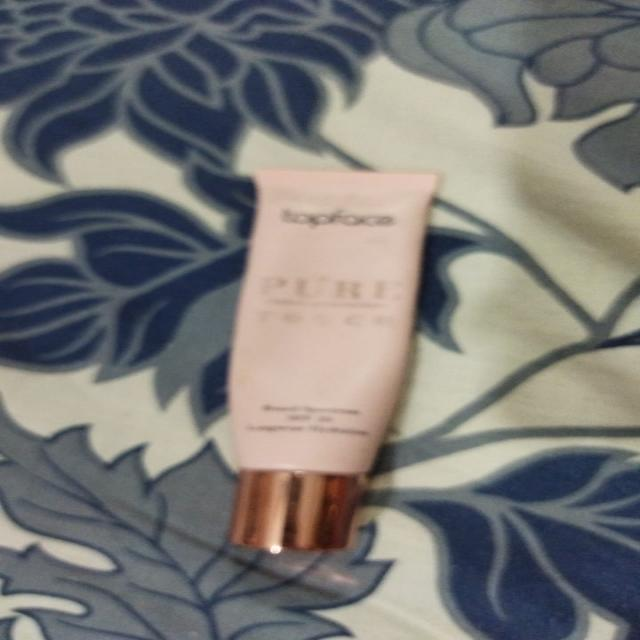lotion: (199, 149, 456, 574)
